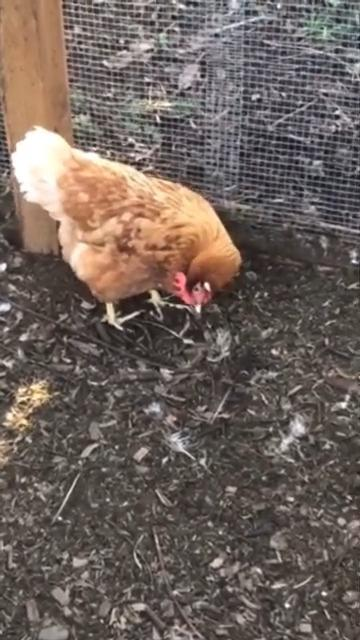AbNormal: (19, 129, 238, 327)
